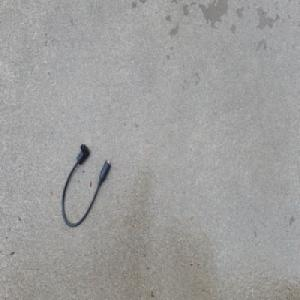Wire: (60, 141, 112, 228)
